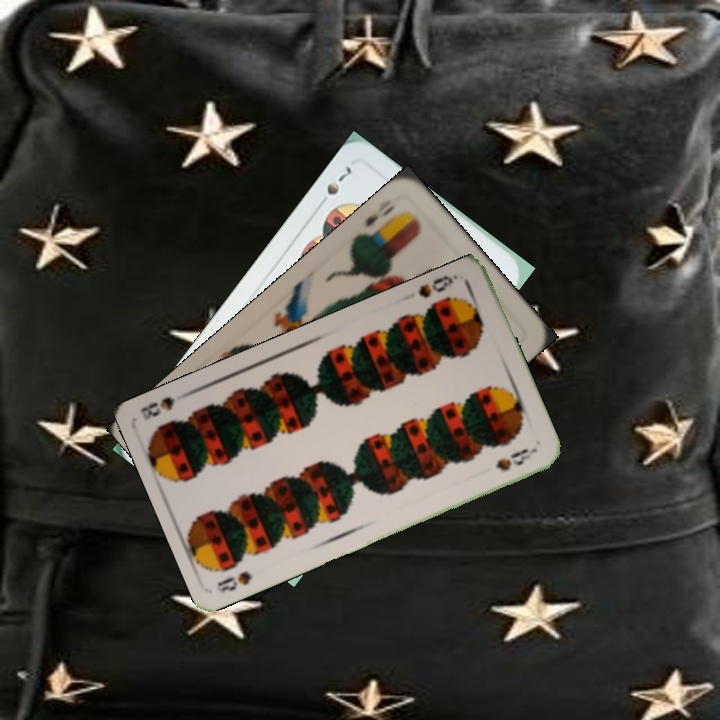EO: (355, 200, 407, 239)
S7: (314, 161, 354, 210)
S8: (414, 270, 461, 301), (213, 567, 255, 595)
